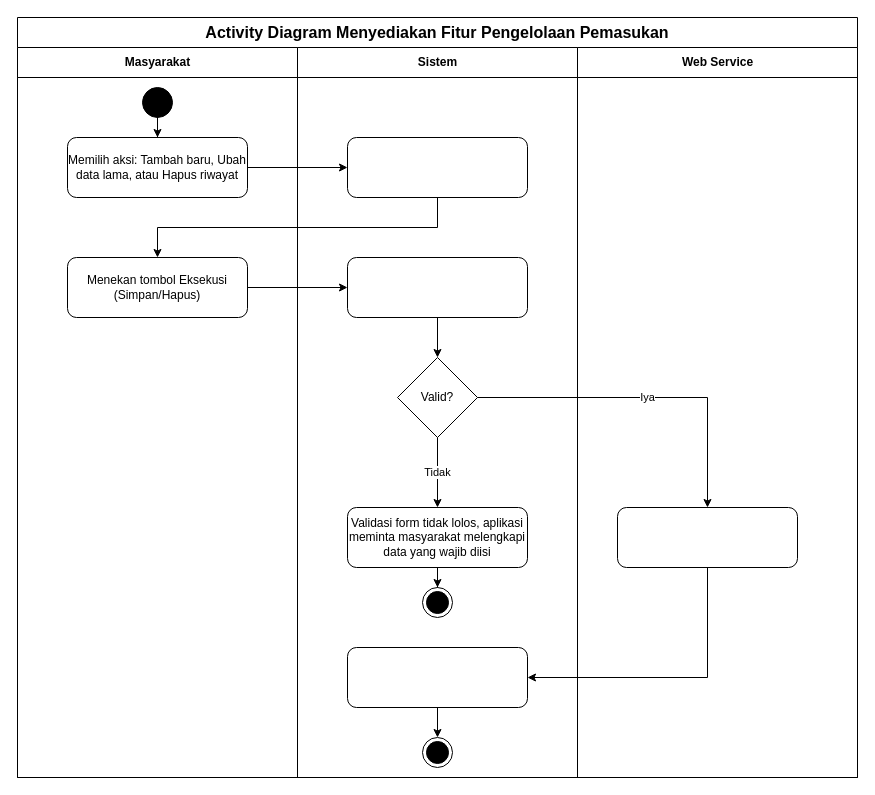
Image size: 875x795. Some labels were removed from this diagram. Here are the shapes that lost their labels. From the top down, the centre of each, then its label:
the point at 437,167: Menampilkan form input atau memunculkan dialog konfirmasi jika Hapus
the point at 437,287: Memvalidasi nominal tidak boleh nol secara lokal
the point at 707,537: Menjalankan eksekusi CRUD entitas Pemasukan di PostgreSQL
the point at 437,677: Menampilkan umpan balik pesan sukses (*Toaster*) kepada Masyarakat
